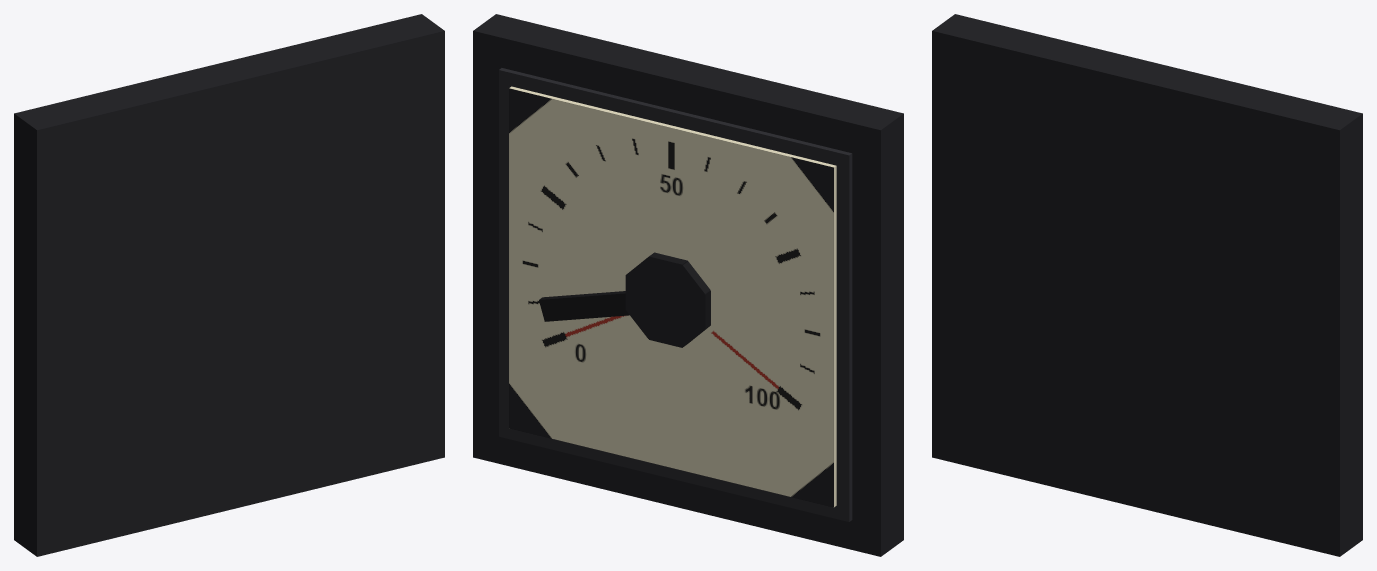
Rendered from gauge_fan.obj.
3 views of the same model, side by side, from view 1: azimuth 30°, elevation 25°; view 2: azimuth 150°, elevation 25°; view 3: azimuth 330°, elevation 25° (orthographic).
Parts seen in each view (by area): view 1: Frame; view 2: Face, Frame, Hub, Needle; view 3: Frame.
Boxes of the visible parts, box(x1,y1,x2,y2) form: Frame: box(14, 14, 444, 556); Face: box(509, 86, 836, 507); Frame: box(473, 14, 903, 556); Hub: box(625, 252, 710, 347); Needle: box(539, 291, 629, 321); Frame: box(932, 14, 1362, 556).
Size of the model in its own units: 0.8 by 0.8 by 0.1169.
Materials: 1 (1 with a texture image).
